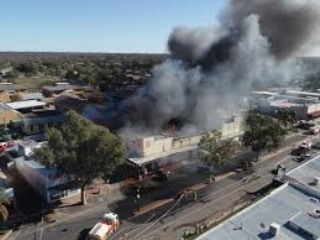smoke: (81, 4, 315, 146)
